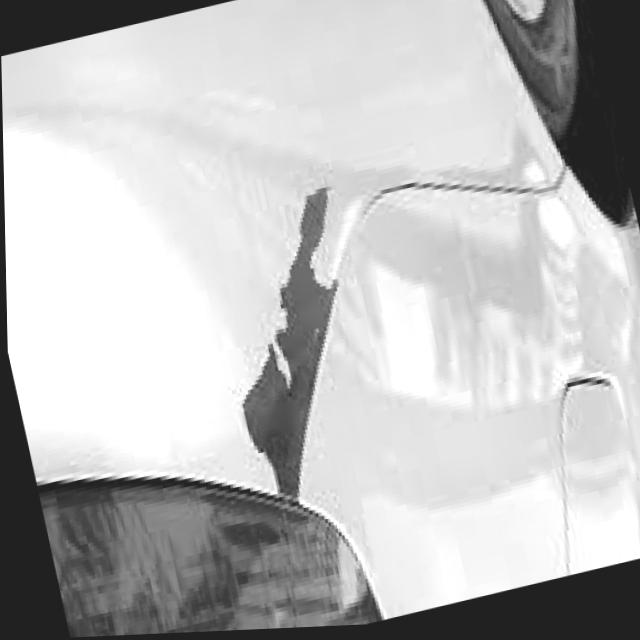Paint-fading: (246, 191, 337, 493)
